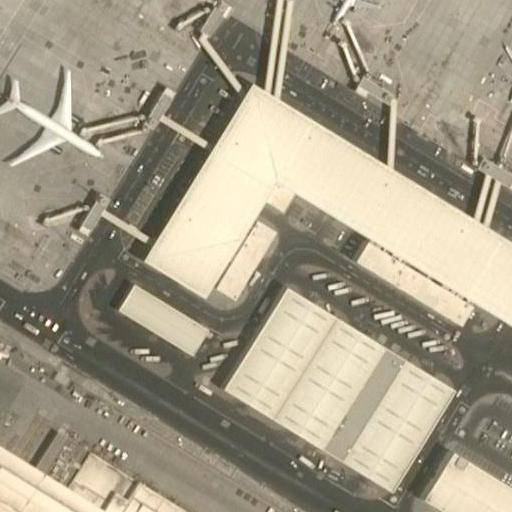Aircraft: (0, 63, 105, 170), (488, 24, 512, 100), (315, 0, 377, 28)
